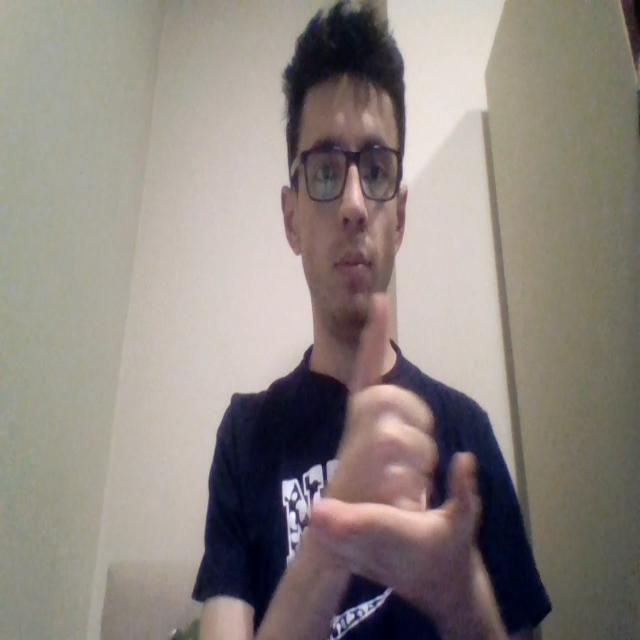help: (306, 290, 482, 608)
